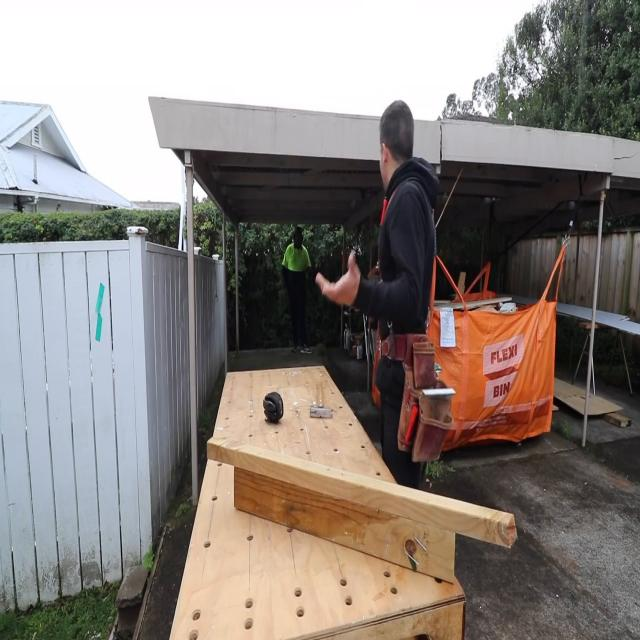hammer: (308, 371, 334, 423)
